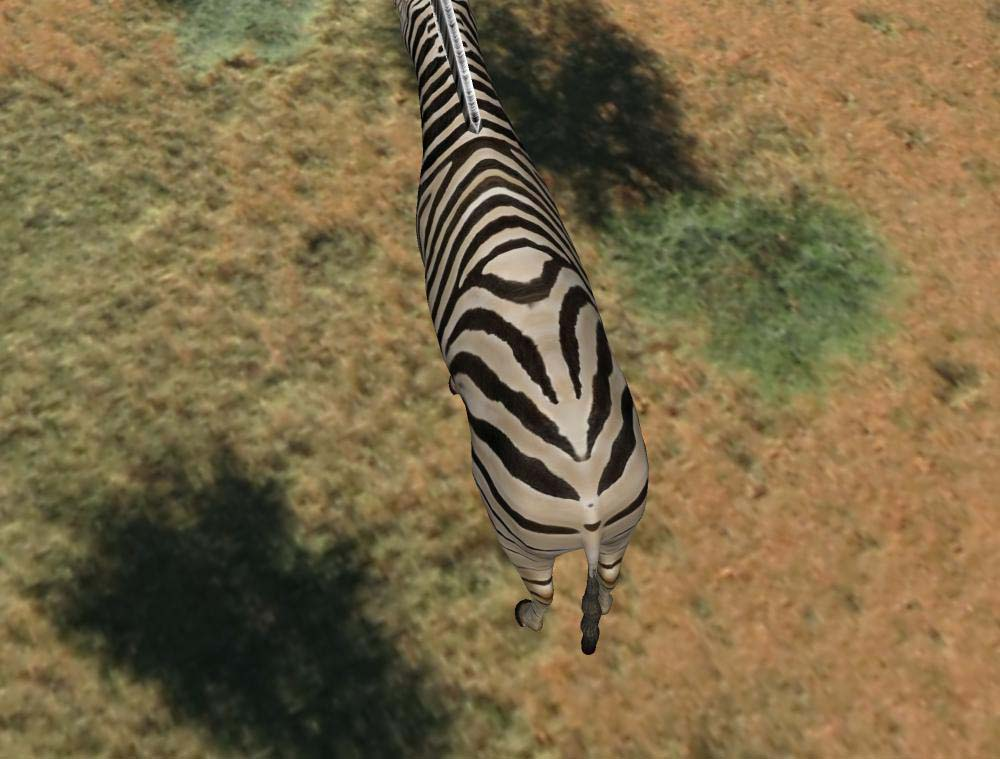zebra: (393, 1, 648, 654)
